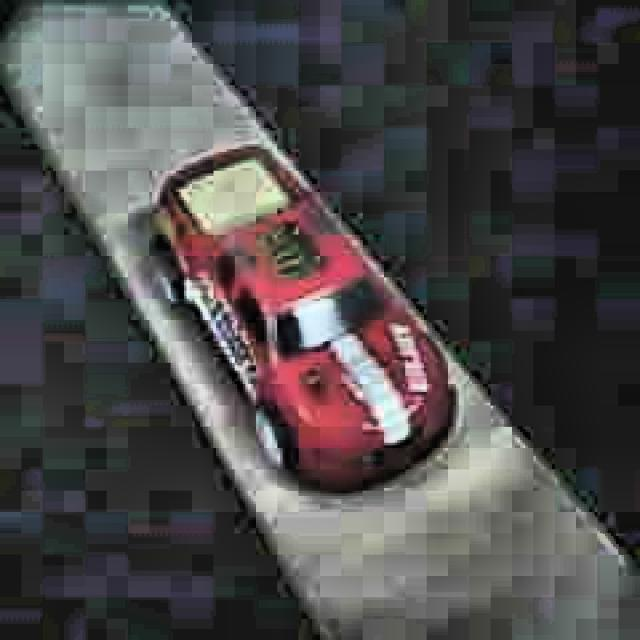car: (146, 141, 460, 500)
